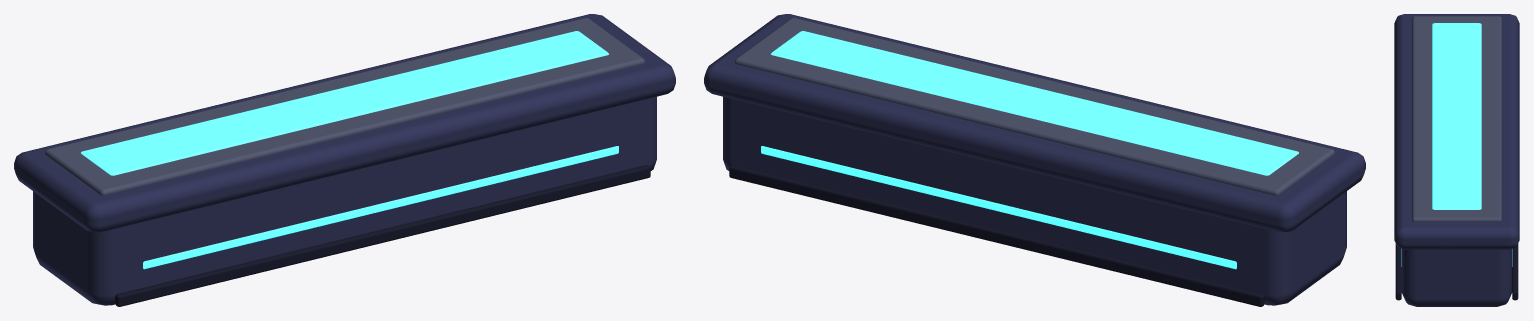
The model's file is int.doorbeam.emit_a.l1.2.glb.
3 renders of one model, left to right at view 1: azimuth 30°, elevation 25°; view 2: azimuth 150°, elevation 25°; view 3: azimuth 270°, elevation 25°, orthographic. The views are drawn at different scales.
Parts seen in each view (by area): view 1: int.doorbeam.emit_a.l1.2; view 2: int.doorbeam.emit_a.l1.2; view 3: int.doorbeam.emit_a.l1.2.
Part boxes in pixels (left/top/right/bottom): int.doorbeam.emit_a.l1.2: left=14, top=14, right=675, bottom=306; int.doorbeam.emit_a.l1.2: left=704, top=14, right=1365, bottom=306; int.doorbeam.emit_a.l1.2: left=1394, top=14, right=1519, bottom=306.
Bounding box in the file's own units: 1.04 × 0.201 × 0.25.
